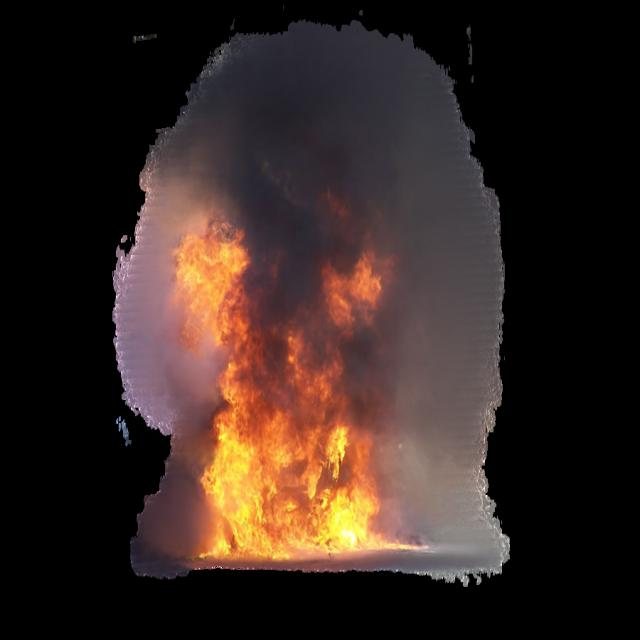fire: (167, 138, 425, 554)
